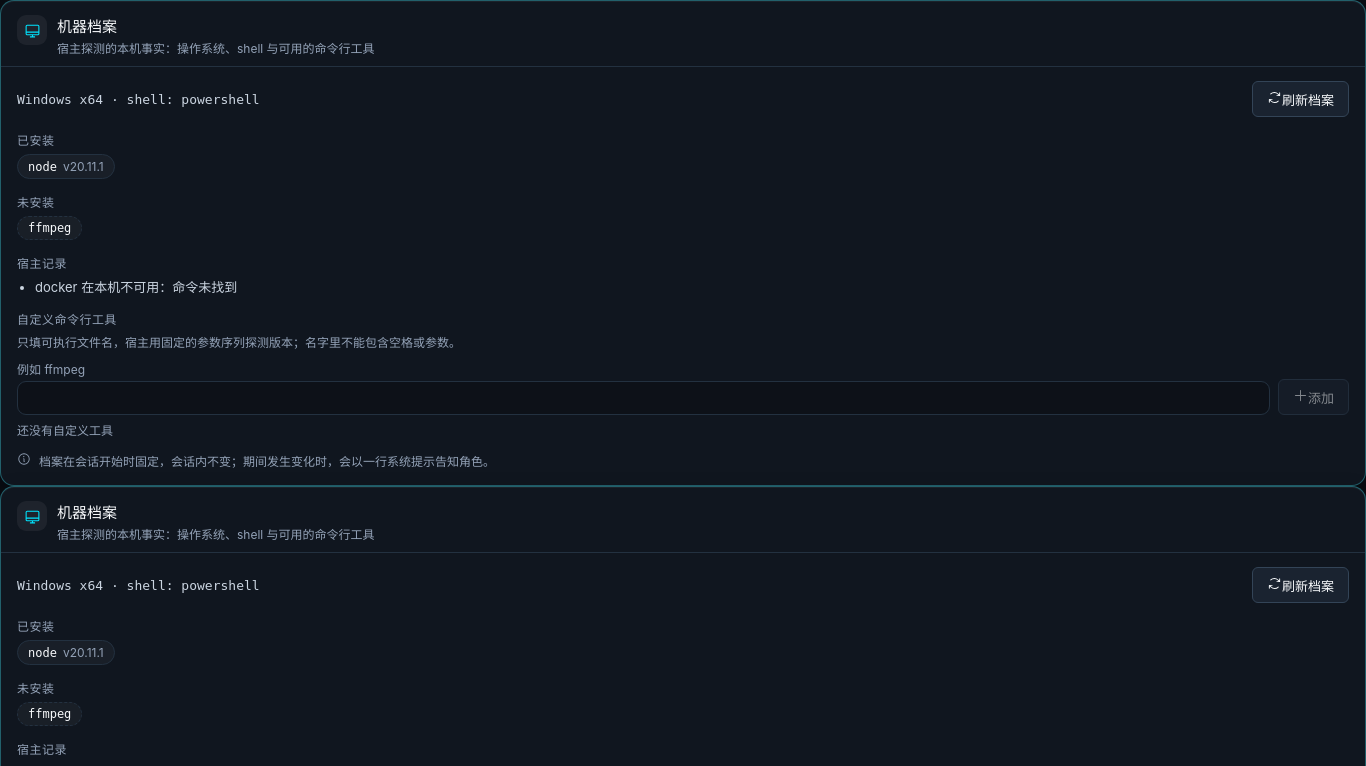
it: MachineProfilePanel › offers a refresh that runs the full probe and re-renders the result
Click the 2nd button "刷新档案" at (1300, 585), box [1252, 567, 1349, 603]
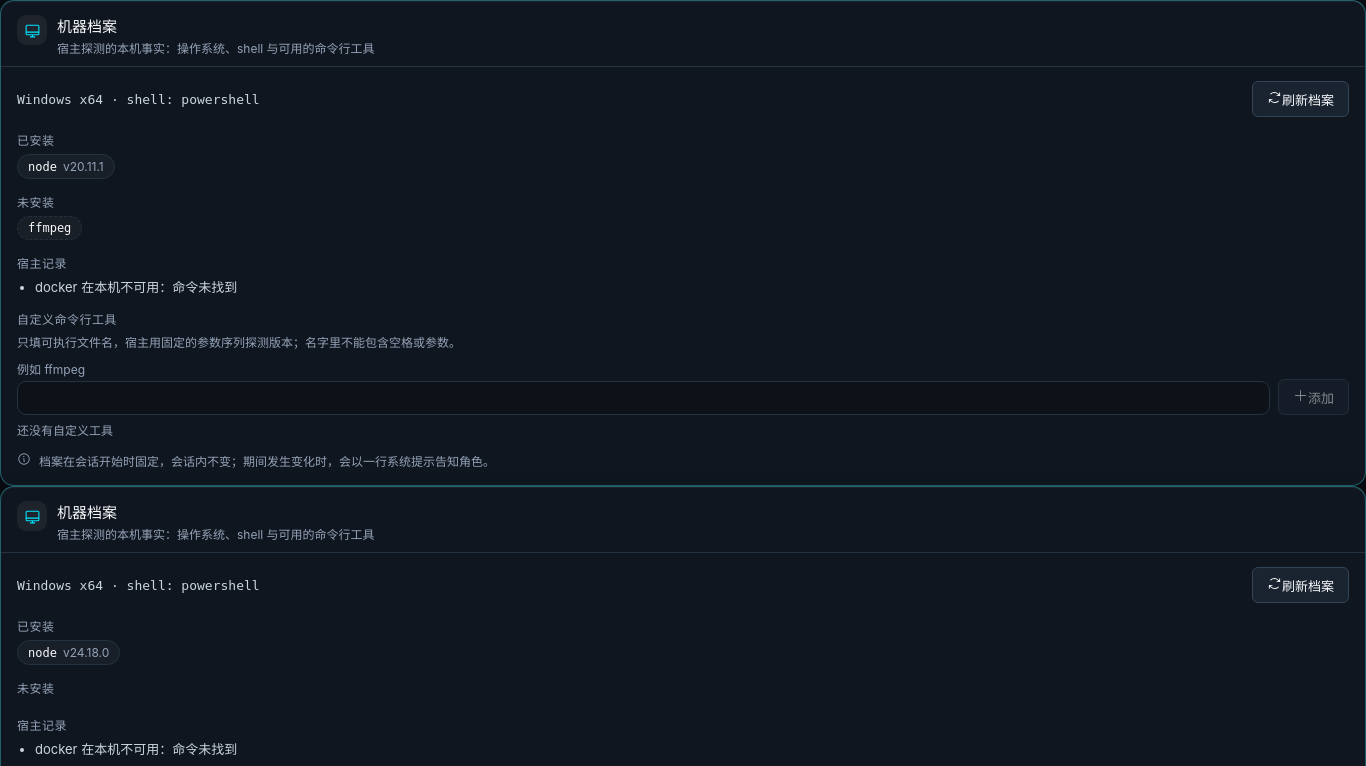
Check: the text "v24.18.0" is shown, box [63, 645, 109, 660]
